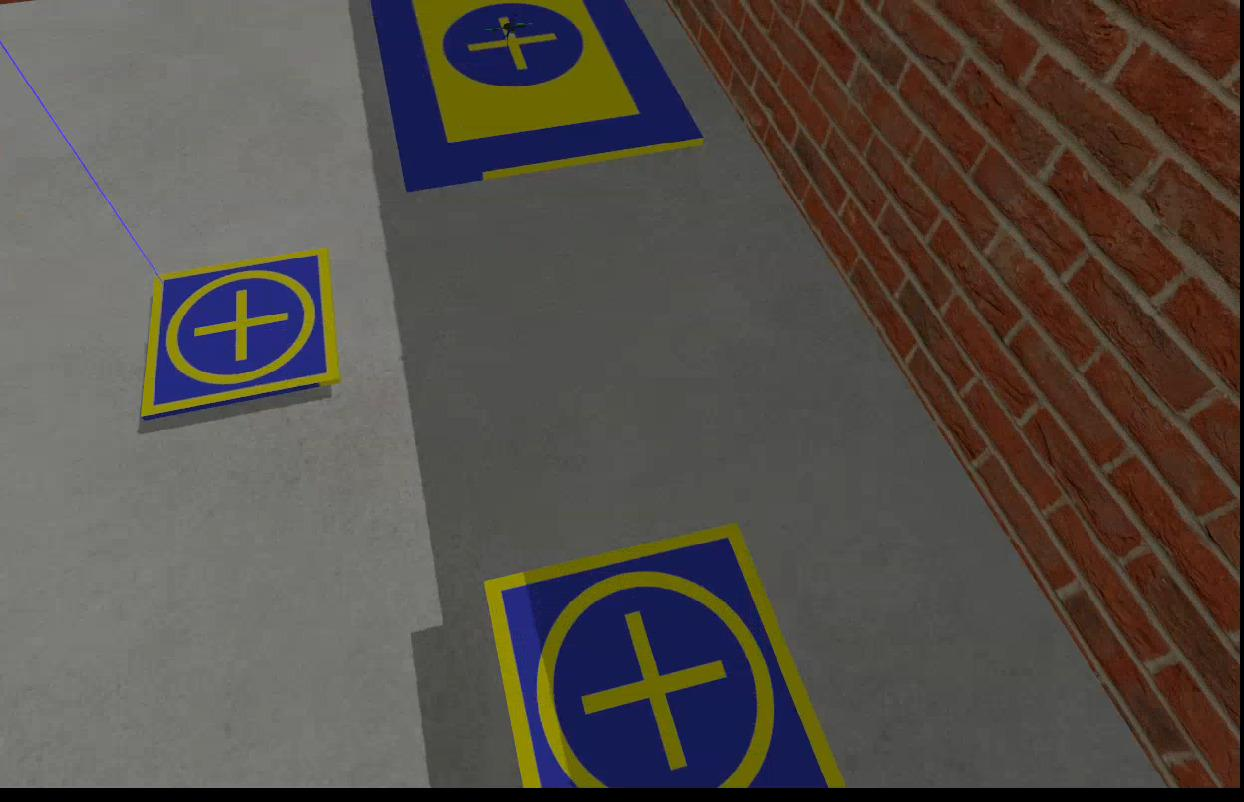large_base: (372, 1, 707, 196)
small_base: (482, 520, 845, 791), (139, 246, 344, 426)
